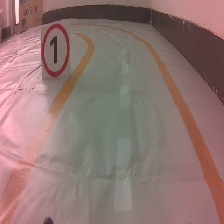limit: (40, 18, 74, 80)
